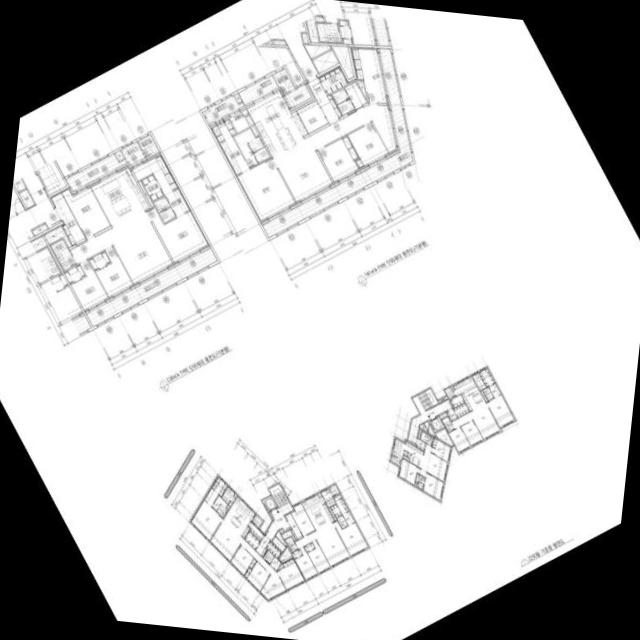background: (0, 0, 640, 640)
space_balconi: (262, 48, 412, 237), (66, 153, 127, 191), (202, 95, 244, 123), (239, 75, 278, 104), (121, 141, 145, 164), (444, 386, 455, 399), (390, 454, 401, 466), (252, 514, 262, 527), (328, 484, 339, 495)
space_bedroom: (236, 158, 295, 222), (147, 206, 209, 263), (61, 185, 110, 238), (350, 46, 388, 102), (70, 259, 109, 311), (95, 246, 133, 298), (347, 122, 389, 169), (318, 135, 359, 183), (190, 499, 222, 540), (333, 520, 368, 556), (297, 100, 328, 133), (277, 557, 305, 590), (487, 394, 515, 427), (290, 502, 315, 535), (295, 546, 318, 580), (230, 545, 256, 575), (244, 561, 270, 591), (307, 540, 330, 573), (448, 426, 471, 452), (398, 458, 420, 485), (423, 472, 444, 500), (461, 420, 483, 445), (431, 437, 451, 462), (89, 251, 110, 270), (64, 264, 85, 283), (304, 542, 315, 551), (292, 549, 302, 558)
space_dressroom: (131, 152, 178, 194), (219, 137, 249, 175), (165, 188, 190, 216), (210, 116, 236, 142), (141, 174, 163, 200), (211, 475, 228, 496), (478, 367, 495, 387), (333, 494, 348, 513), (330, 504, 341, 517)
space_elevator: (35, 160, 67, 195), (262, 495, 277, 511), (429, 416, 444, 432)
space_elevator_hall: (16, 171, 60, 239), (262, 473, 293, 540), (408, 399, 452, 444)
space_front: (50, 192, 86, 245), (306, 77, 342, 124), (318, 65, 349, 94), (285, 512, 303, 539), (256, 535, 270, 556), (266, 540, 282, 558), (245, 531, 260, 549), (446, 408, 458, 421), (416, 438, 426, 450)
space_kitchen: (246, 89, 308, 157), (90, 164, 149, 227), (224, 495, 255, 537), (301, 493, 334, 530), (453, 375, 486, 410), (392, 437, 424, 467)
space_living_room: (273, 104, 397, 203), (70, 211, 173, 285), (210, 518, 286, 600), (295, 522, 350, 566), (451, 403, 501, 439), (420, 443, 448, 481)
space_multipurpose_space: (229, 107, 249, 132)
space_other: (273, 21, 318, 79), (331, 45, 354, 78), (312, 49, 339, 73), (284, 84, 312, 107), (44, 225, 72, 247), (304, 44, 331, 58), (248, 521, 264, 541), (435, 428, 453, 445), (19, 189, 35, 208), (320, 487, 335, 506), (245, 114, 258, 135), (472, 371, 486, 390), (453, 402, 469, 417), (221, 486, 235, 503), (272, 536, 286, 551), (32, 223, 48, 235), (450, 394, 464, 407), (280, 546, 292, 561), (424, 421, 436, 436), (275, 530, 286, 546), (13, 178, 26, 191), (357, 80, 366, 98), (282, 529, 295, 540), (329, 507, 336, 520), (115, 150, 124, 160), (481, 390, 488, 401), (419, 423, 428, 431), (234, 93, 242, 102), (273, 40, 286, 45), (438, 396, 447, 403), (302, 33, 308, 43), (226, 501, 232, 509), (439, 412, 447, 418), (277, 563, 283, 569), (269, 512, 273, 520), (418, 428, 421, 438), (403, 455, 409, 460), (317, 492, 322, 497), (279, 528, 283, 532), (234, 493, 237, 497), (451, 385, 454, 389), (414, 482, 417, 486)
space_outdoor_room: (273, 68, 295, 93), (137, 134, 159, 158)
space_staircase: (412, 388, 438, 413), (273, 482, 289, 505)
space_toilet: (234, 127, 270, 167), (51, 238, 76, 270), (344, 81, 367, 108), (212, 495, 227, 517), (482, 383, 501, 400), (332, 88, 349, 104), (159, 206, 176, 222), (153, 196, 170, 212), (337, 98, 354, 114), (204, 487, 218, 505), (285, 536, 298, 552), (442, 416, 454, 432), (420, 431, 433, 445), (342, 511, 354, 525), (415, 473, 425, 489), (270, 556, 281, 570), (263, 553, 272, 563), (266, 549, 274, 559), (339, 520, 348, 528), (336, 514, 345, 522)
